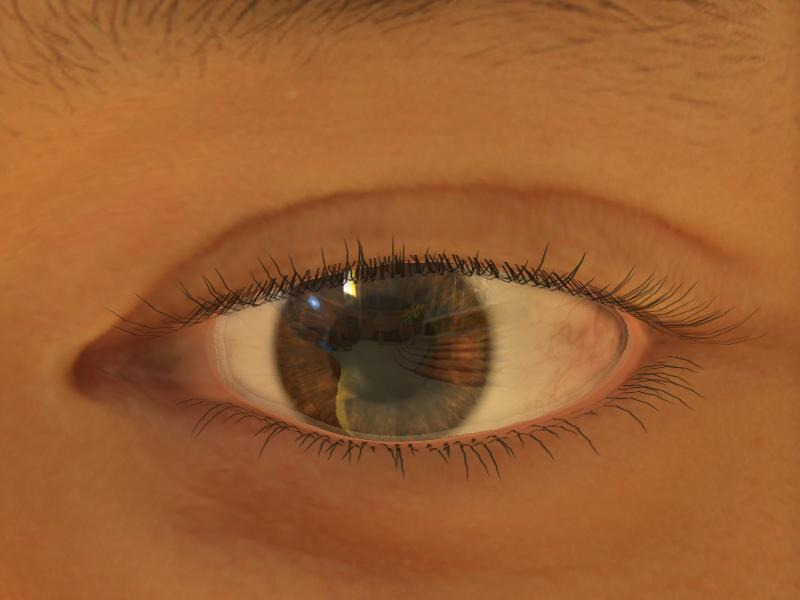eye: (272, 263, 494, 438)
